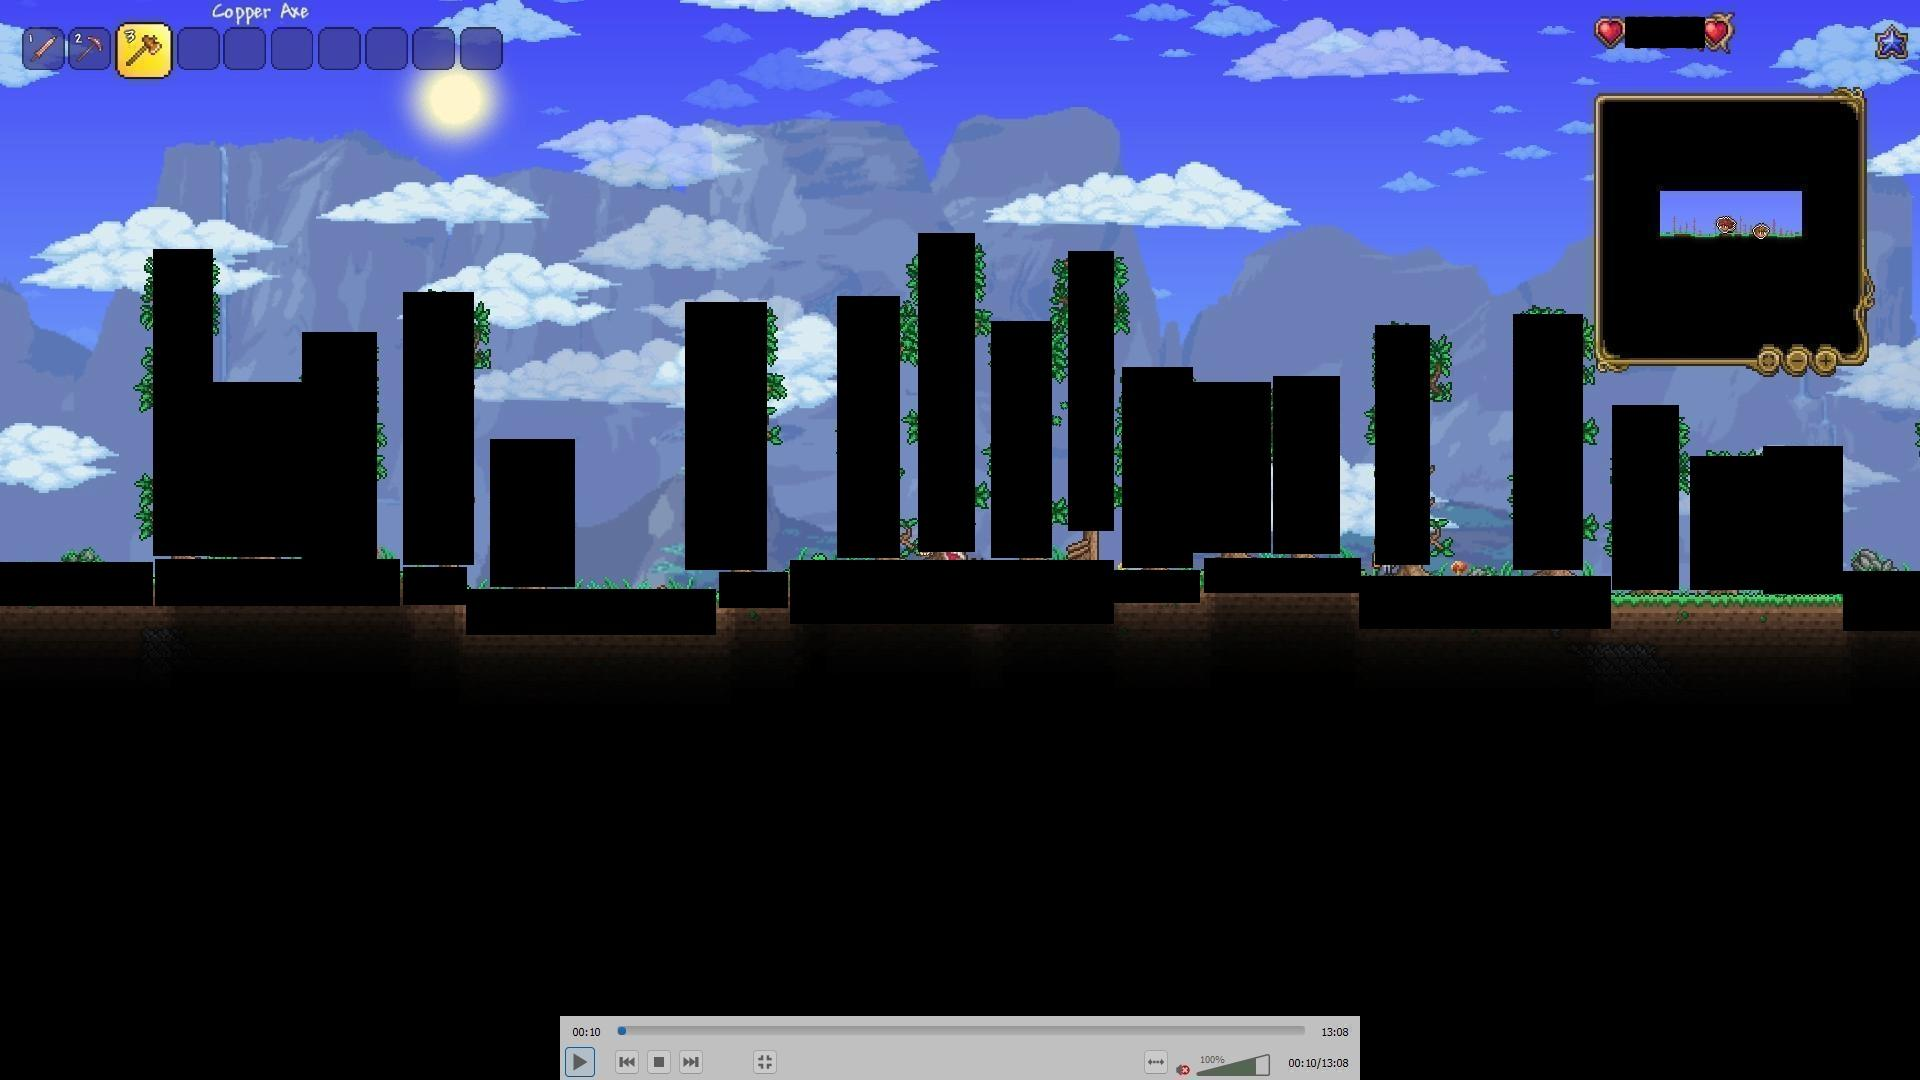dirt: (1615, 593, 1840, 657)
heart: (1702, 17, 1731, 47), (1596, 15, 1626, 44)
wood: (1065, 535, 1095, 566)
